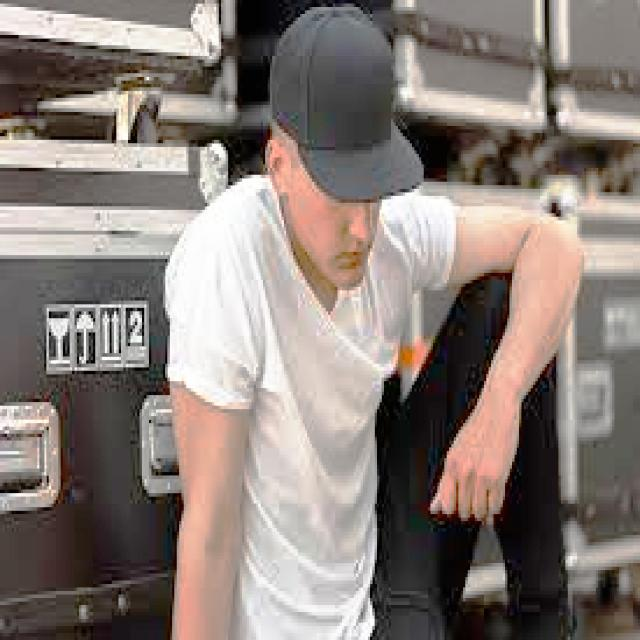TOPI: (263, 0, 426, 203)
